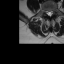CCS_normal: (48, 9, 50, 18)
LFS_normal: (52, 8, 54, 15)
LLS_normal: (50, 9, 52, 17)
RFS_normal: (44, 8, 46, 16)
RLS_normal: (46, 9, 48, 17)
